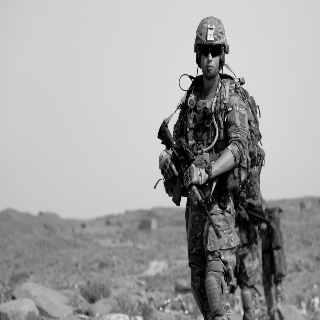rifle: (157, 119, 225, 239)
